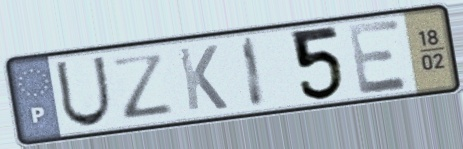5: (285, 22, 349, 102)
E: (344, 15, 413, 97)
I: (239, 34, 269, 111)
K: (175, 42, 231, 113)
U: (52, 54, 114, 130)
Z: (108, 50, 176, 122)
